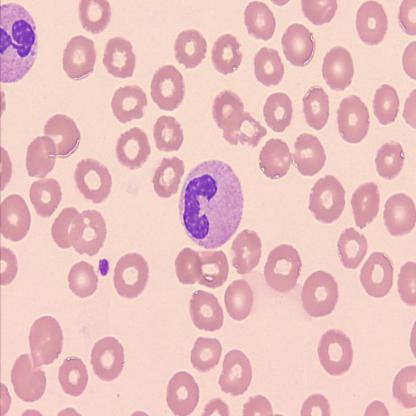Band Neutrophil: (175, 156, 245, 251)
